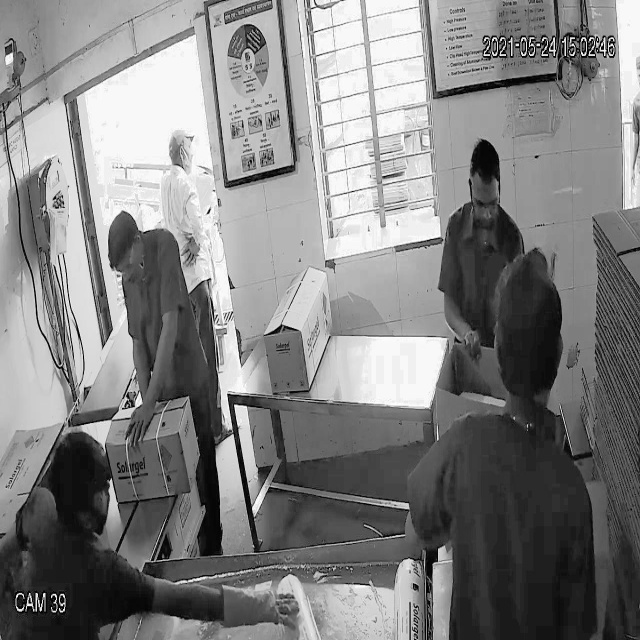Gafas: (110, 251, 139, 282)
